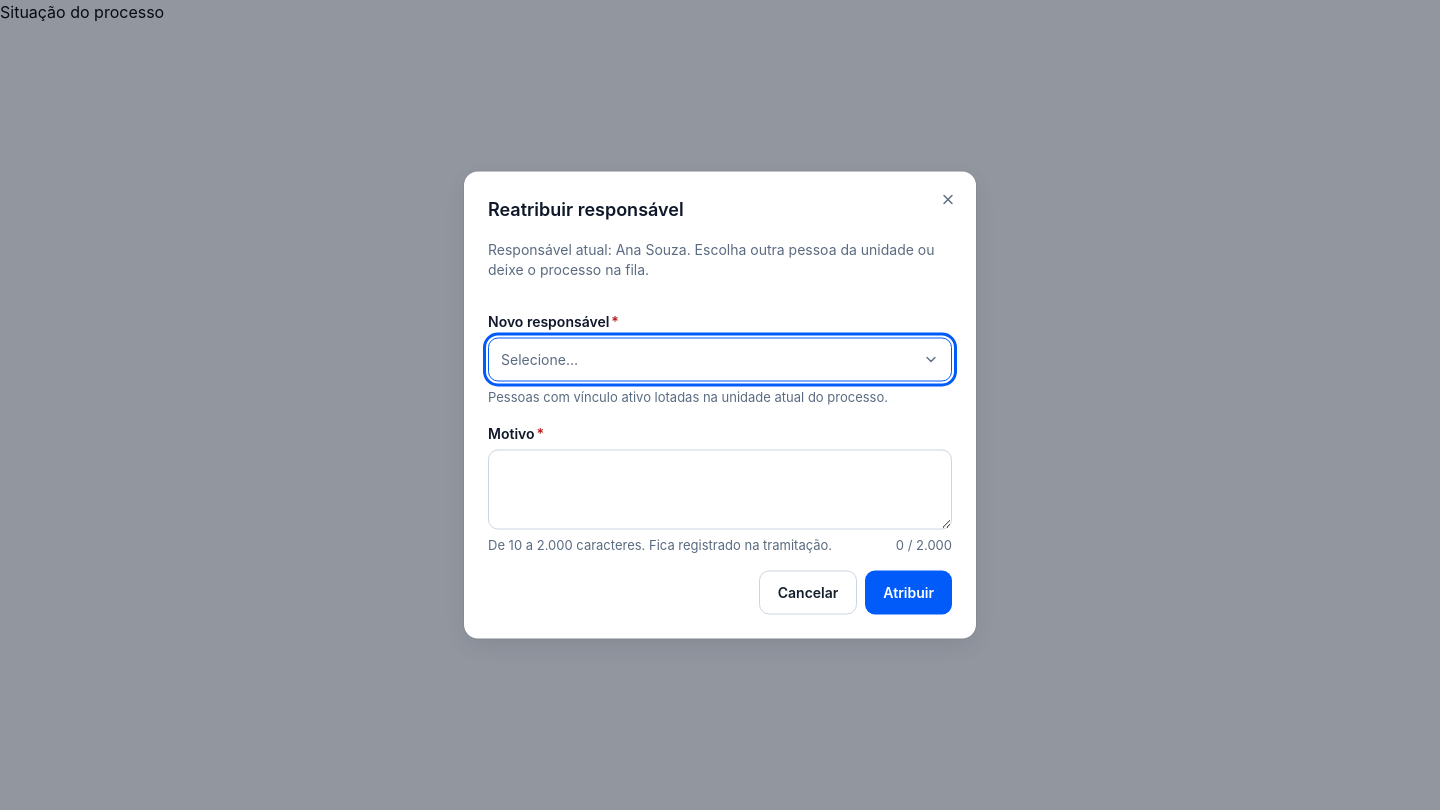
SCR-115 · Diálogo "Atribuir responsável" (US-050) › [Validação] 422 VALIDATION_ERROR da API em reason vai para o campo
Click the dropdown named "Novo responsável": (540,359) top-left (488, 338), bottom-right (952, 382)
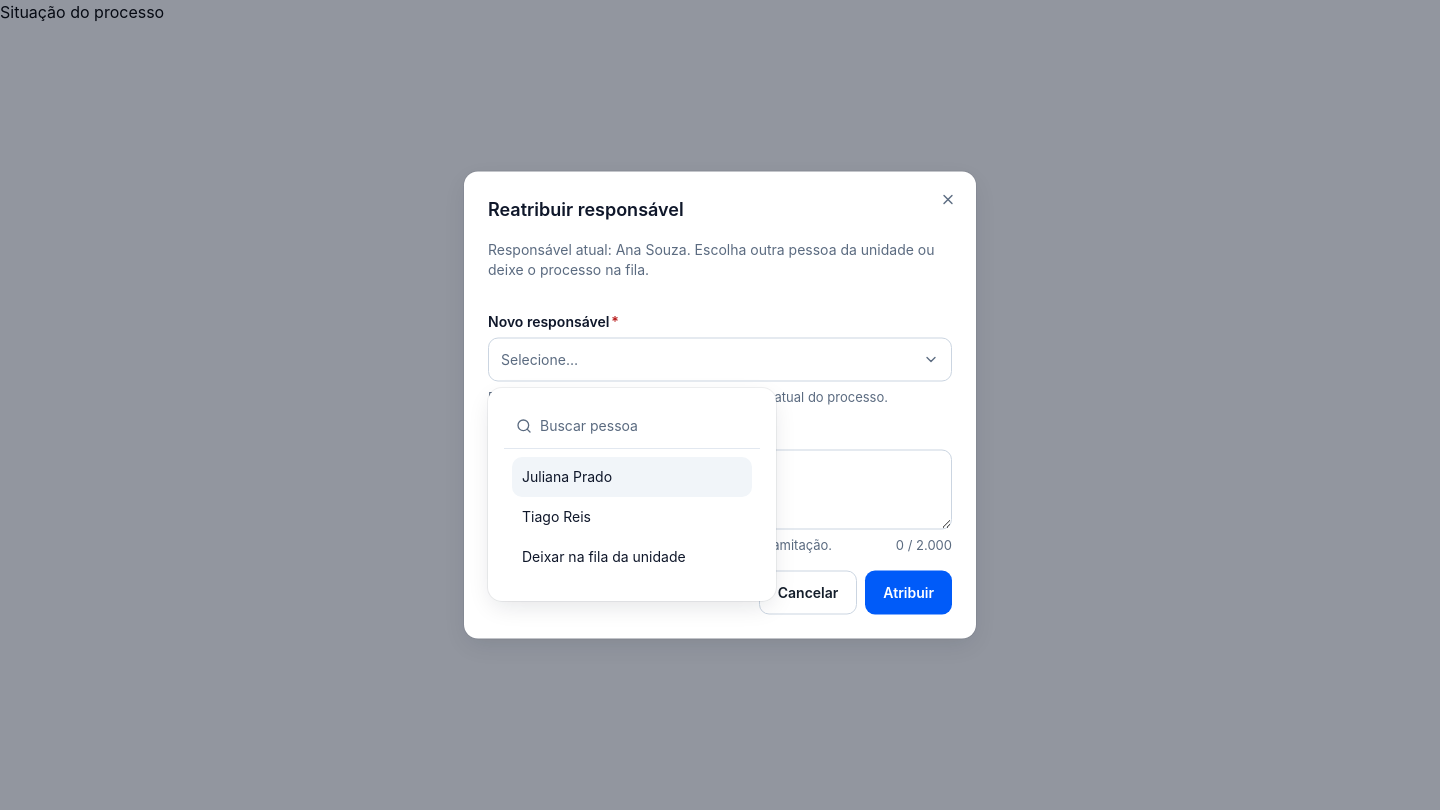
Click the option "Juliana Prado": (632,477) top-left (512, 457), bottom-right (752, 497)
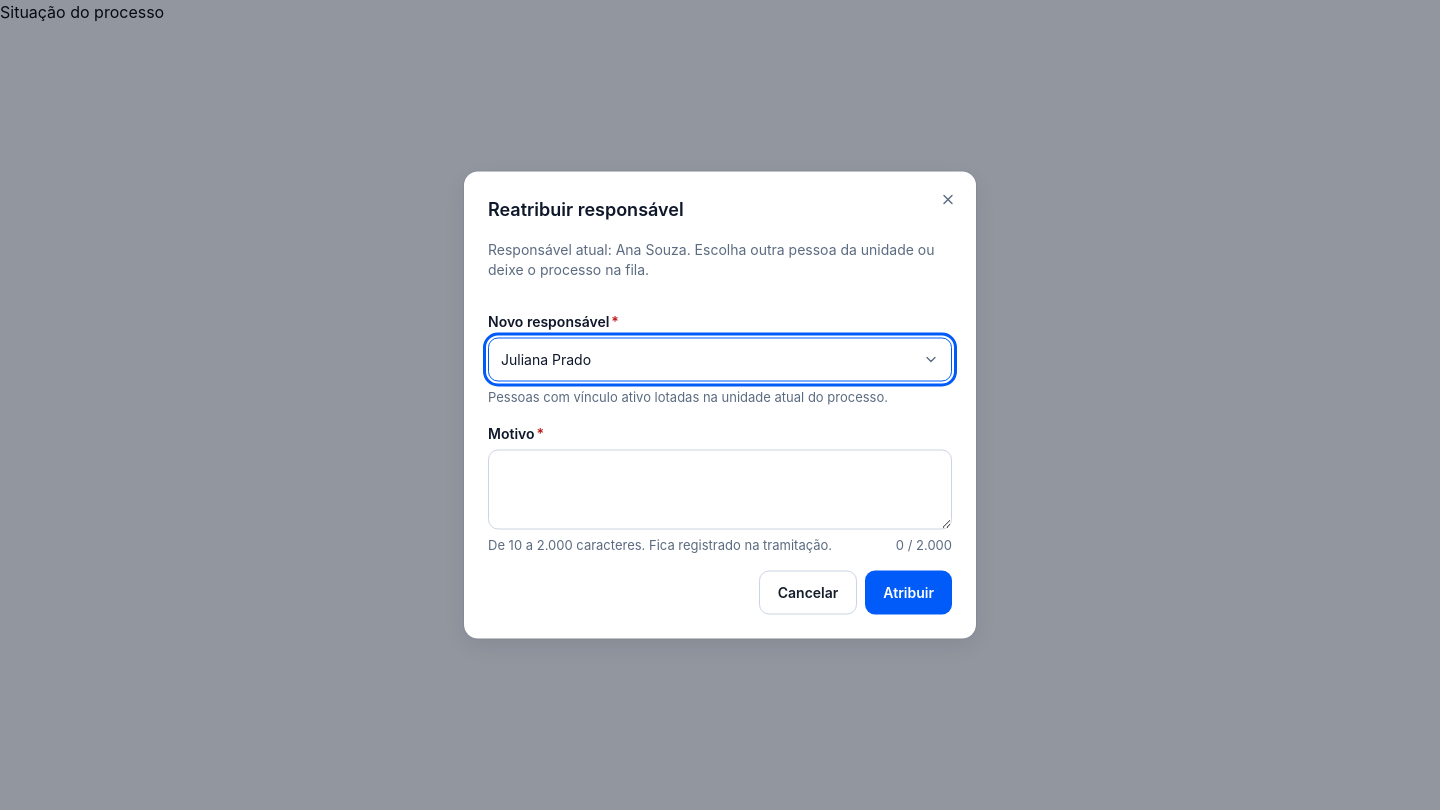
In the text box labelled "Motivo": (720,489) top-left (488, 449), bottom-right (952, 529), type "Felipe está de férias"
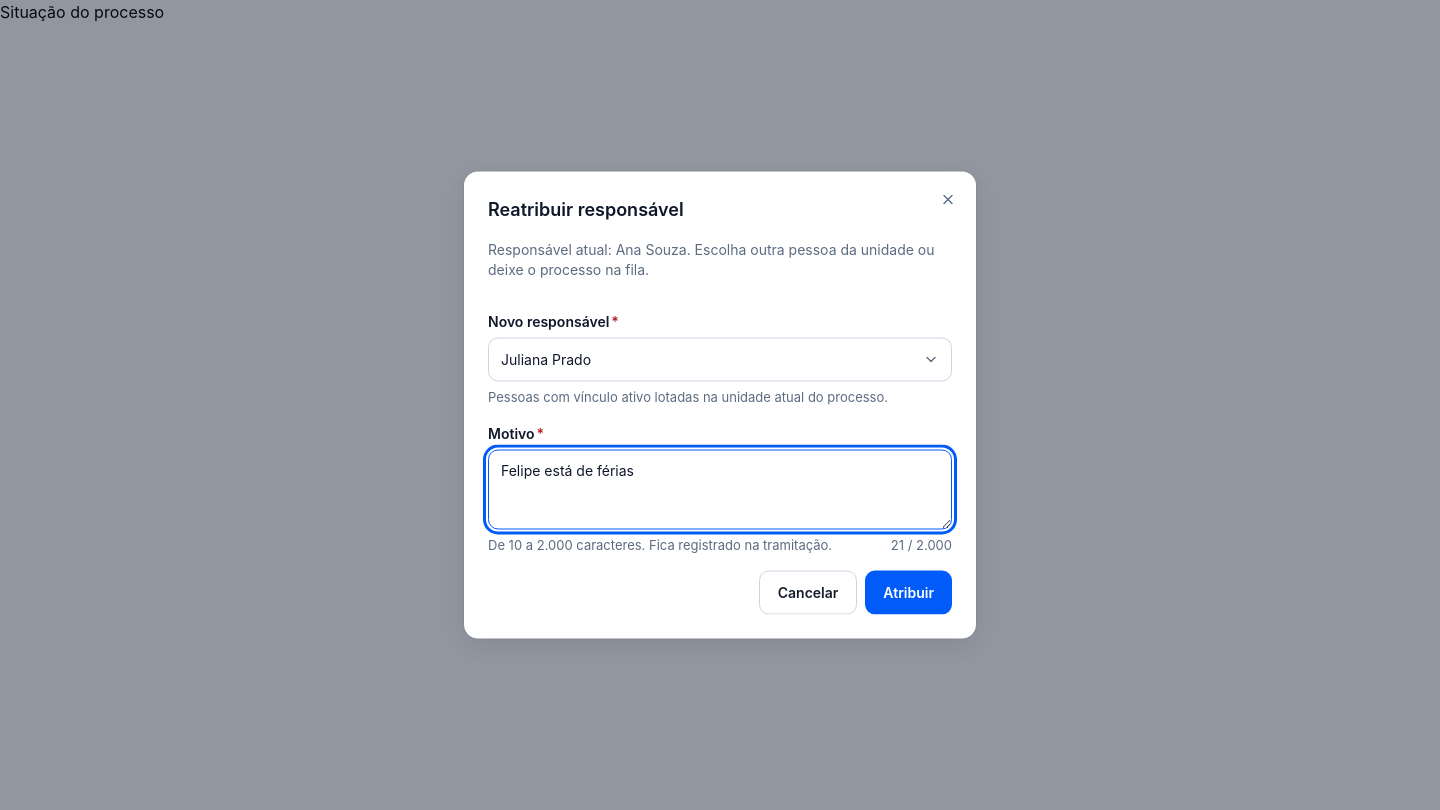
Click the button "Atribuir": (909,592) top-left (865, 570), bottom-right (952, 614)
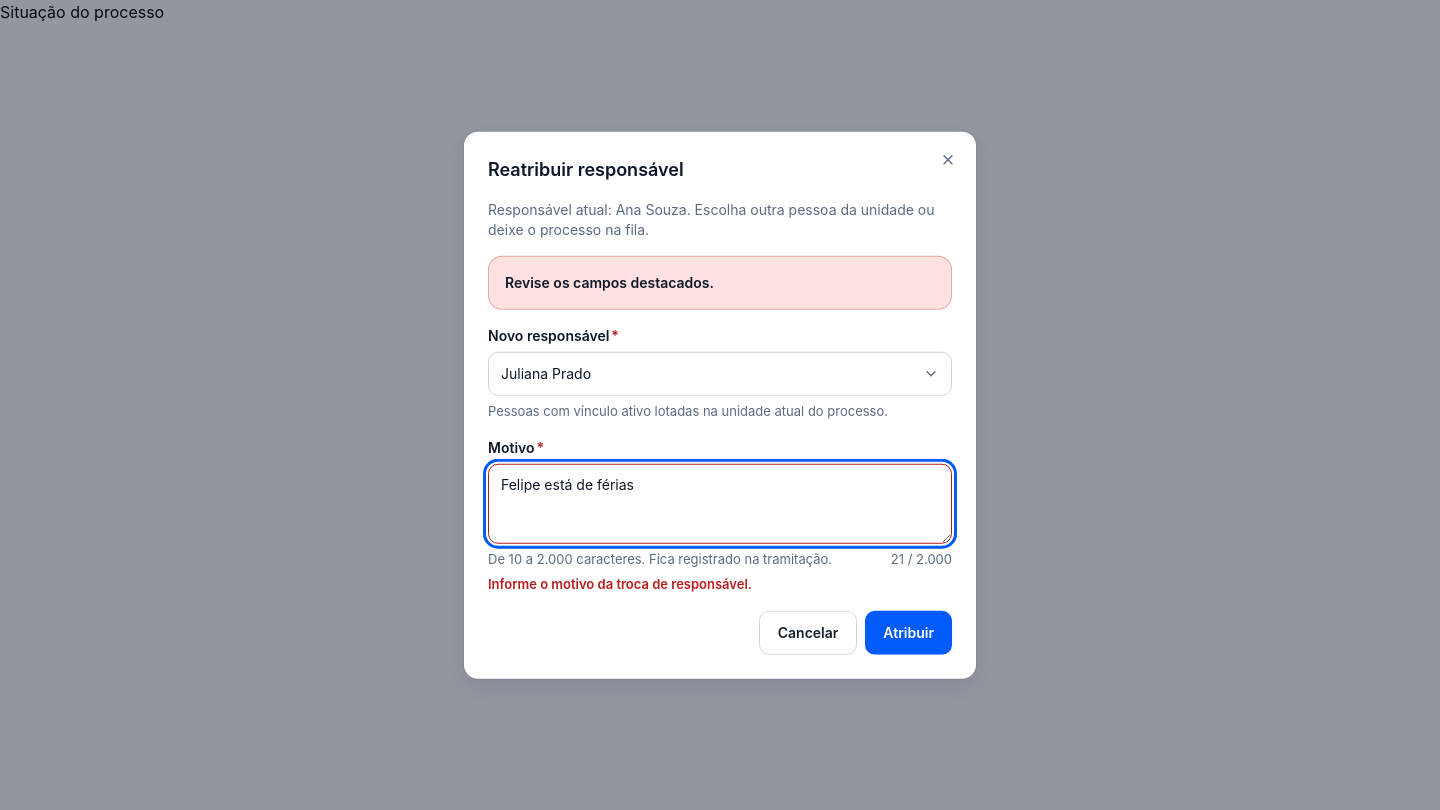
Result: the text "Informe o motivo da troca de responsável." is shown at top-left (488, 576), bottom-right (752, 592)
